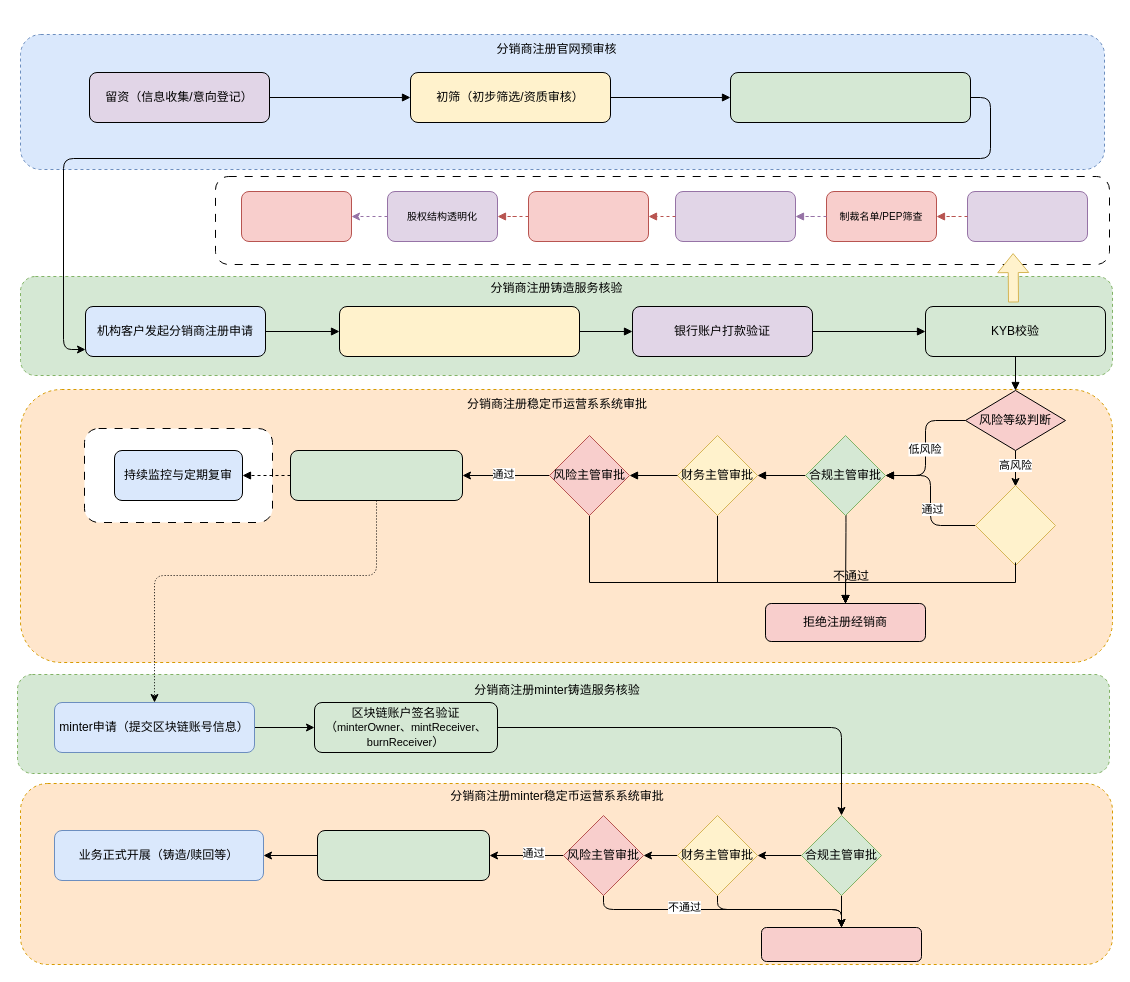
The diagram is 1130 pixels wide and 982 high, and some of its shapes have lost their labels. Each missing label, with the box of its shape:
个人身份验证 (董事、UBO等): (966, 190, 1088, 242)
企业AML风险评分: (240, 190, 352, 242)
企业注册信息验证: (528, 190, 648, 242)
分销商注册成功: (290, 450, 462, 500)
加白名单（通过初筛后加入白名单）: (730, 72, 970, 122)
拒绝注册minter: (760, 926, 922, 962)
竞调: (674, 190, 796, 242)
线上提交资料（公司、银行）: (338, 306, 580, 356)
线下补充核查: (974, 484, 1056, 566)
链上部署合约并分配权限: (316, 830, 490, 880)
